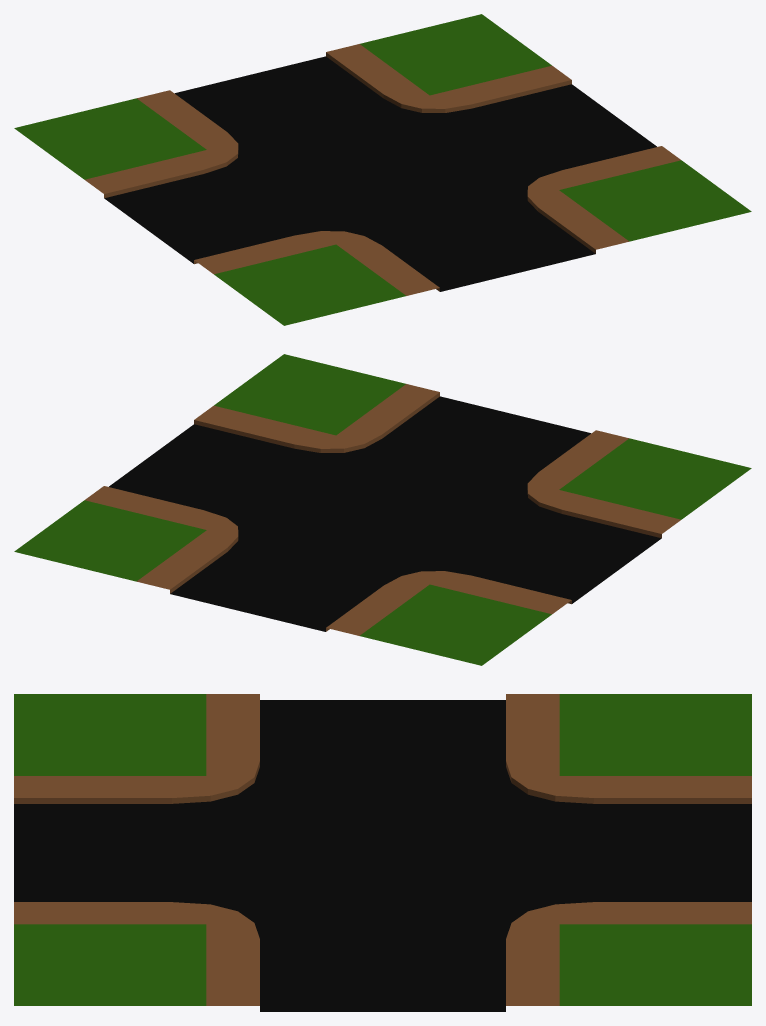
File: Strada_Incrocio.FBX
The picture shows the model from 3 angles, top to bottom: view 1: azimuth 30°, elevation 25°; view 2: azimuth 150°, elevation 25°; view 3: azimuth 270°, elevation 25°; orthographic projection. The views are drawn at different scales.
Visible parts, largest first — view 1: Object018; view 2: Object018; view 3: Object018.
Boxes of the visible parts, x1,y1,x2,y2 form: Object018: (14, 14, 751, 325); Object018: (14, 354, 751, 665); Object018: (14, 694, 751, 1011).
Bounding box in the file's own units: 2100 × 18.16 × 2100.
